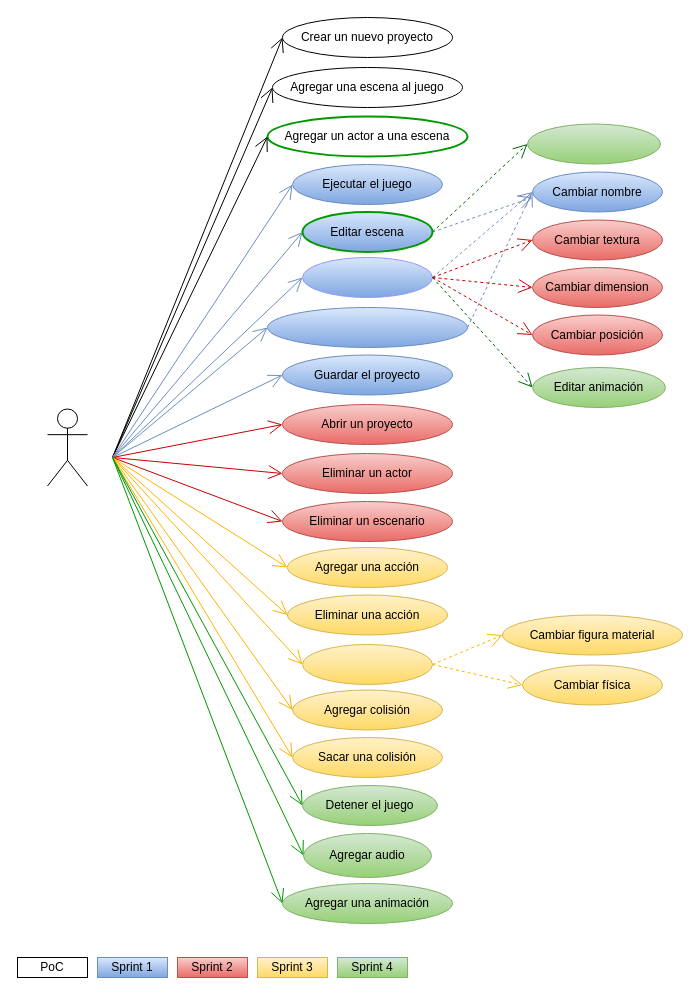
The diagram is 700 pixels wide and 995 high, and some of its shapes have lost their labels. Each missing label, with the centre of its shape:
Cambiar audio: the point at 593,143
Cambiar configuración del juego: the point at 367,327
Editar actor: the point at 367,277
Editar cuerpo: the point at 367,664
Programador: the point at 67,447
